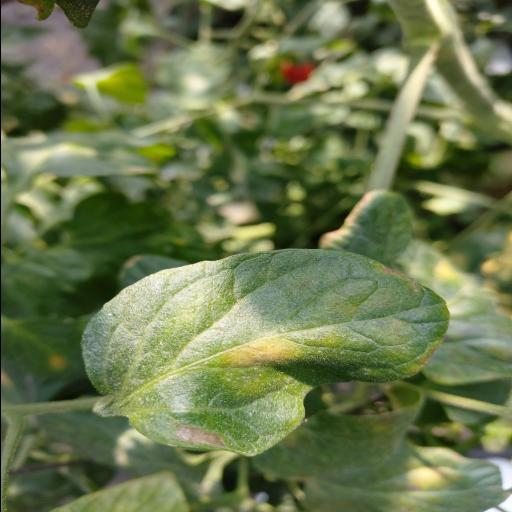disease_tomato: (77, 248, 451, 456)
